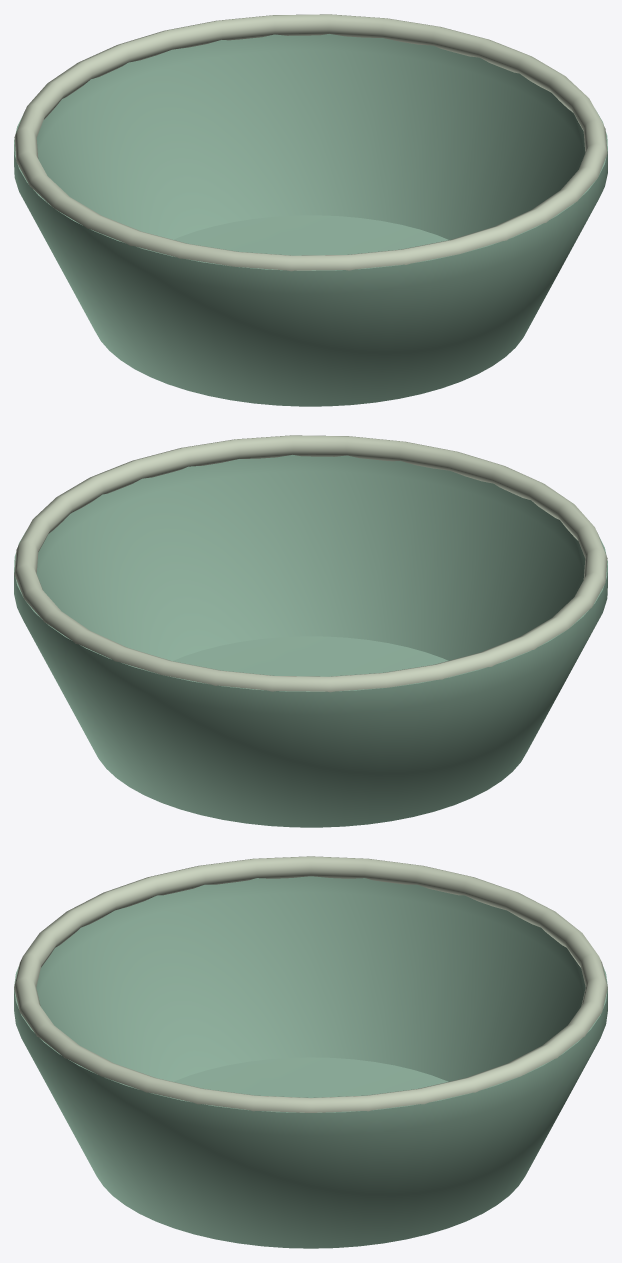
Rendered from enchanted-harp-garden-and-music-sanctuary-singing-bowl-4a3d510e__30420.glb.
3 views of the same model, one above another, from view 1: azimuth 30°, elevation 25°; view 2: azimuth 150°, elevation 25°; view 3: azimuth 270°, elevation 25° (orthographic).
Parts seen in each view (by area): view 1: singing-bowl; view 2: singing-bowl; view 3: singing-bowl.
Boxes of the visible parts, bbox=[...] form: singing-bowl: bbox=[14, 14, 607, 406]; singing-bowl: bbox=[14, 435, 607, 827]; singing-bowl: bbox=[14, 856, 607, 1248].
Size of the model in its own units: 0.48 by 0.179 by 0.48.
